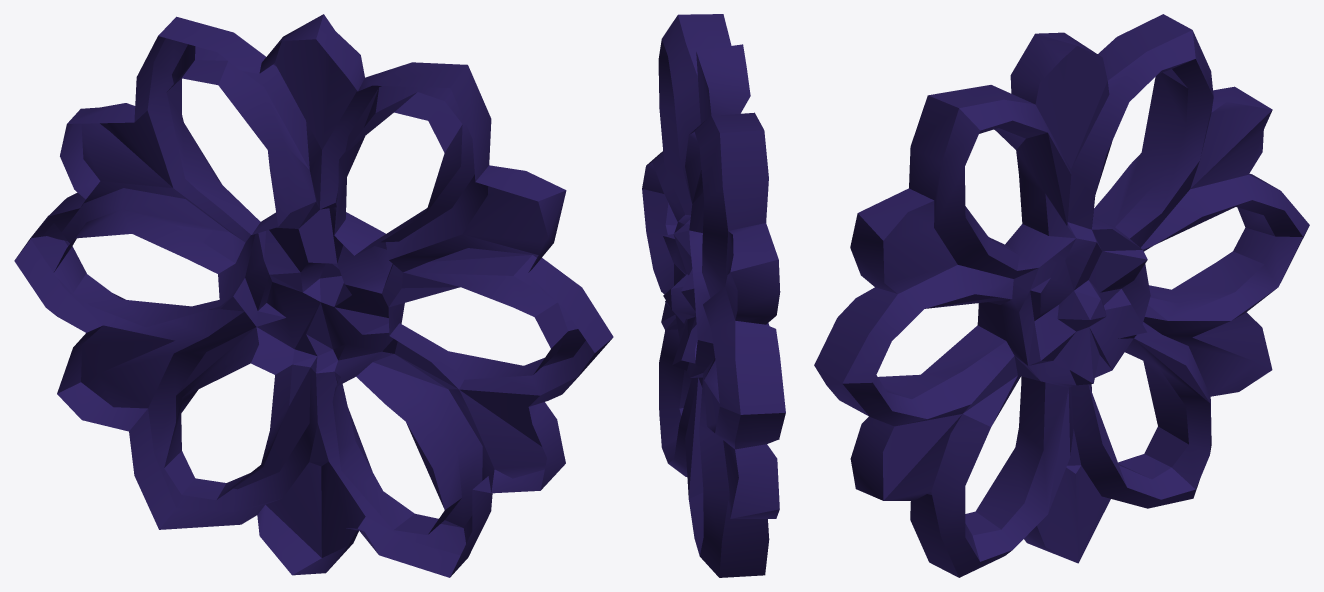
The picture shows the model from 3 angles, left to right: view 1: azimuth 30°, elevation 25°; view 2: azimuth 150°, elevation 25°; view 3: azimuth 270°, elevation 25°; orthographic projection. The views are drawn at different scales.
Parts seen in each view (by area): view 1: SM_gateSQwall002; view 2: SM_gateSQwall002; view 3: SM_gateSQwall002.
Boxes of the visible parts, x1=… form: SM_gateSQwall002: x1=14, y1=14, x2=613, y2=577; SM_gateSQwall002: x1=642, y1=14, x2=785, y2=577; SM_gateSQwall002: x1=814, y1=14, x2=1309, y2=577.
Size of the model in its own units: 45.91 by 64.24 by 55.67.
